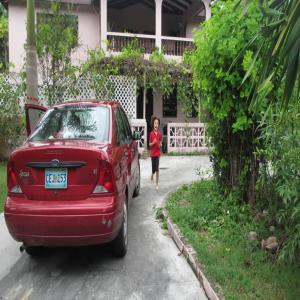Vehicle-registration-plate: (46, 168, 67, 192)
